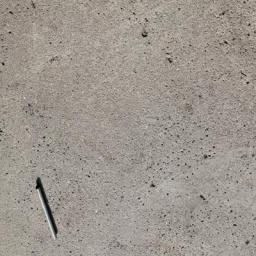FOD: (35, 177, 65, 244)
